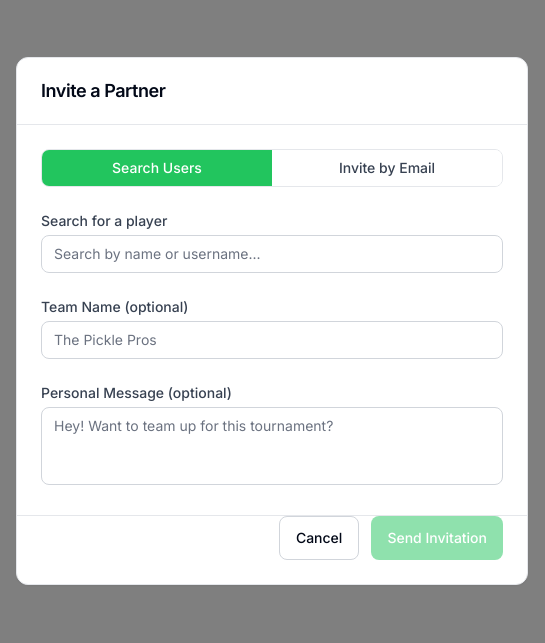
Test: PartnerInviteModal › User Search Autocomplete › allows changing selected user
In the field with placeholder "Search by name or username...": [272, 254] box top-left (41, 235), bottom-right (503, 273), type "pla"
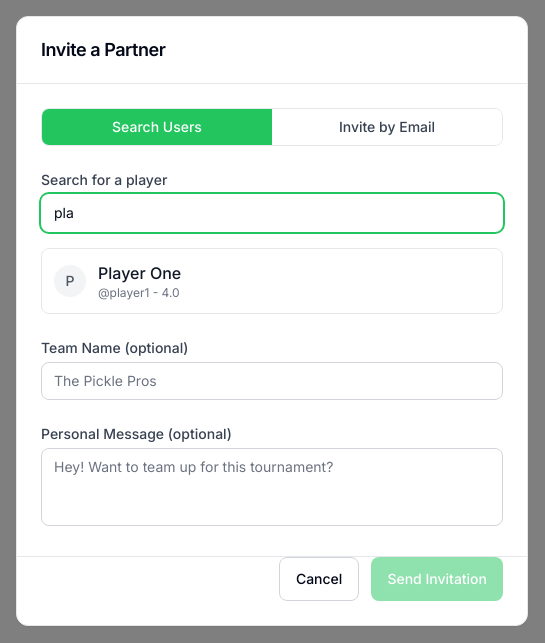
Result: the text "Player One" is shown
Click the text "Player One": [140, 273] box top-left (98, 263), bottom-right (181, 283)
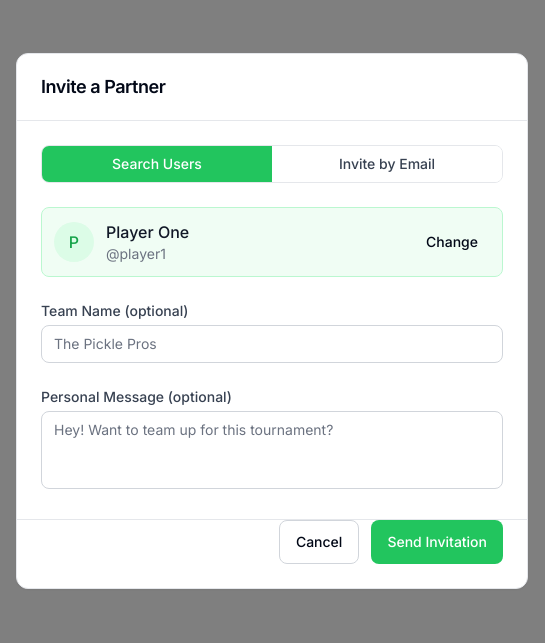
Click the button "Change": [452, 242] box top-left (414, 224), bottom-right (490, 260)
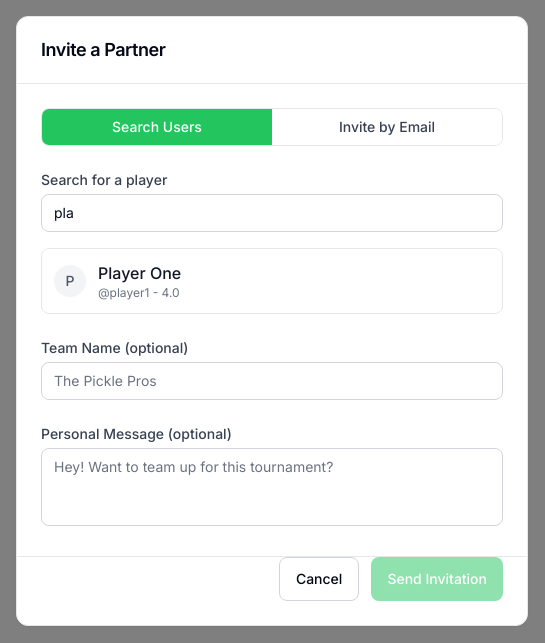
Result: the field with placeholder "Search by name or username..." is shown at top-left (41, 194), bottom-right (503, 232)
